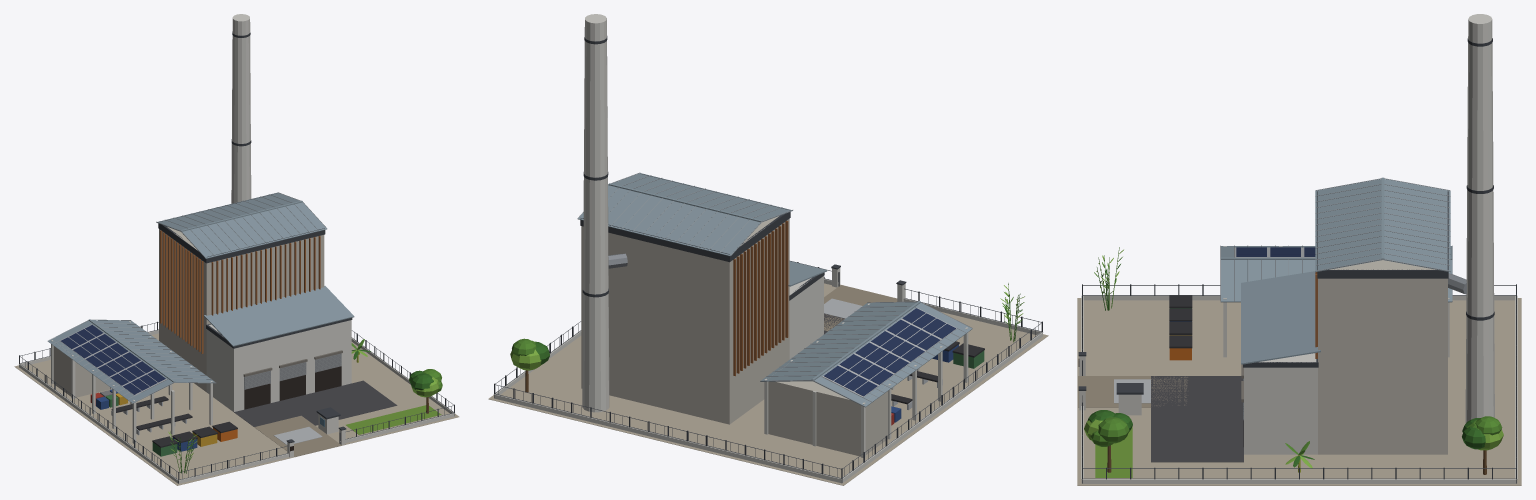
File: waste.glb
3 renders of one model, left to right at view 1: azimuth 30°, elevation 25°; view 2: azimuth 150°, elevation 25°; view 3: azimuth 270°, elevation 25°, orthographic. The views are drawn at different scales.
Parts seen in each view (by area): view 1: body, windows; view 2: body; view 3: body.
Part boxes in pixels (x1,y1,x2,y2): body: (14, 14, 459, 485); windows: (244, 366, 341, 409); body: (488, 14, 1048, 485); body: (1077, 14, 1521, 485).
Size of the model in its own units: 47.9 by 50.03 by 47.9.
